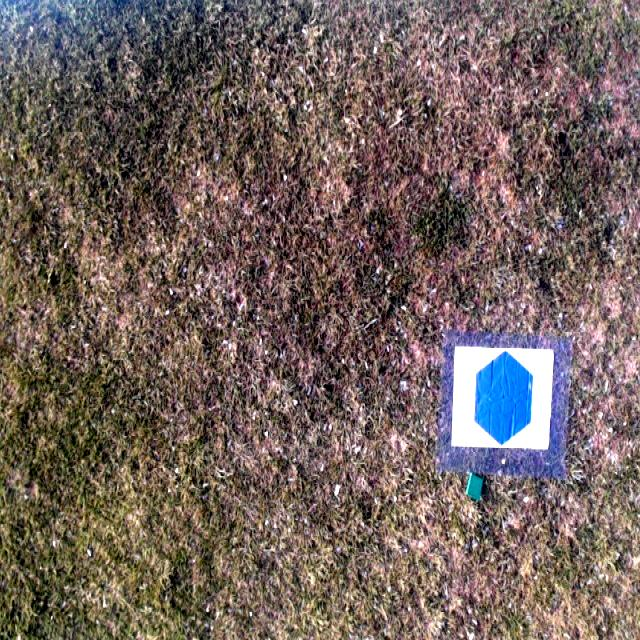blue_hexagon: (474, 351, 532, 446)
